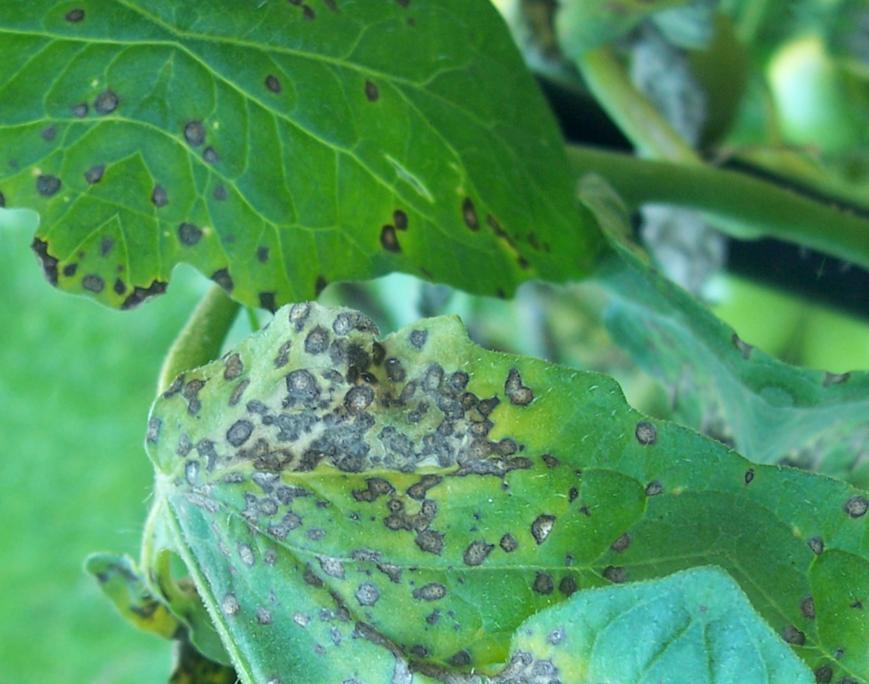Tomato Septoria leaf spot: (77, 0, 725, 491), (53, 256, 759, 684)
